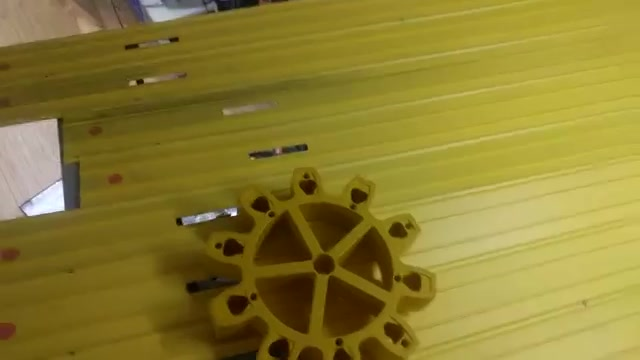gear: (175, 153, 450, 360)
